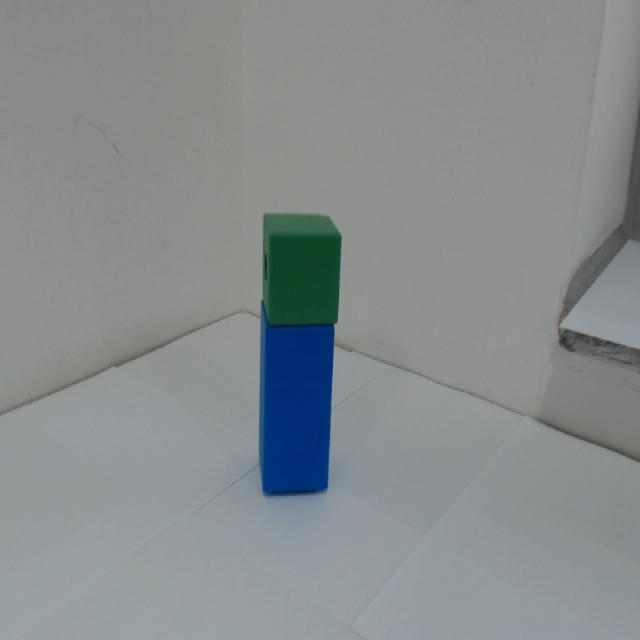cube: (249, 200, 350, 324)
